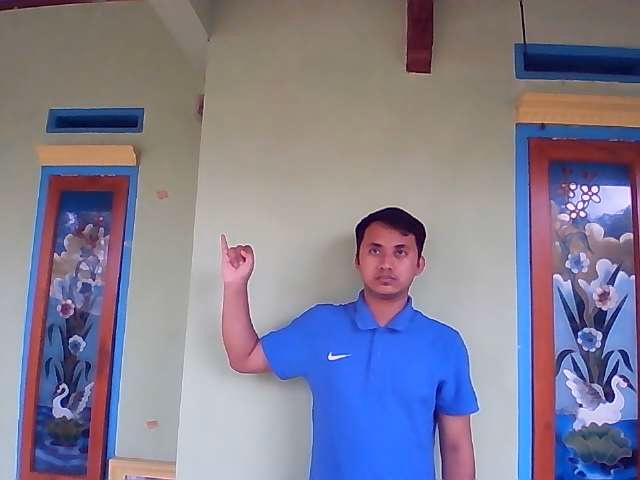I: (219, 232, 255, 285)
